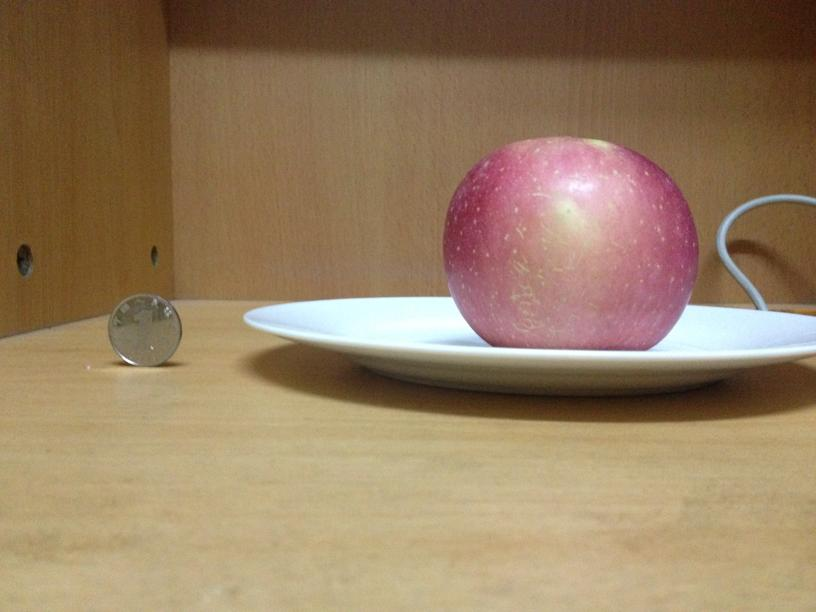apple: (443, 136, 698, 349)
coin: (106, 294, 181, 368)
